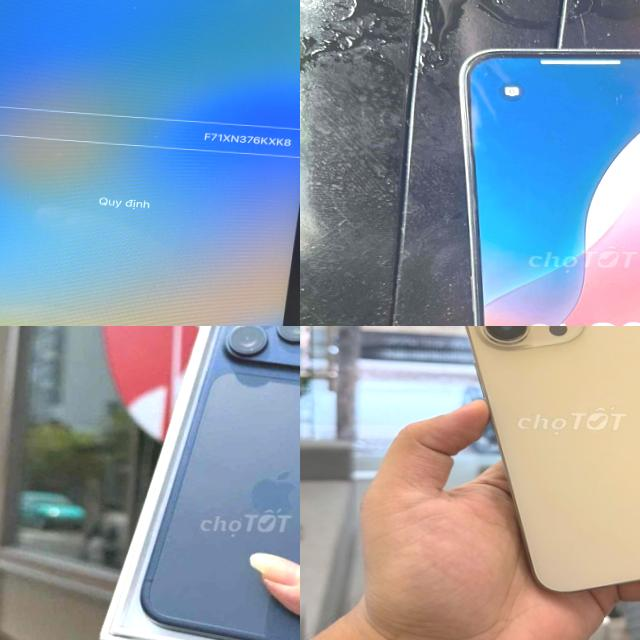gen_12_13: (448, 43, 640, 326)
gen_14: (456, 326, 640, 603)
gen_17: (137, 326, 300, 640)
gen_x_xs: (0, 0, 300, 326)
physical_damage: (18, 168, 41, 222)
